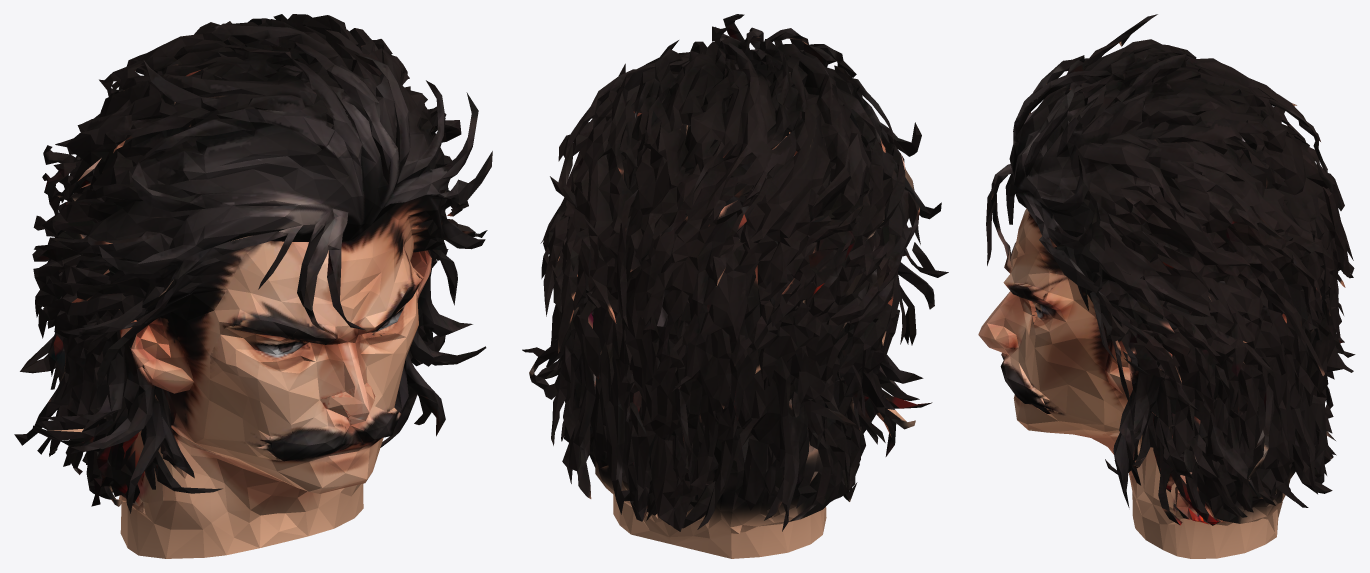
The model's file is side_yakamo_repaired_atlas.glb.
3 views of the same model, side by side, from view 1: azimuth 30°, elevation 25°; view 2: azimuth 150°, elevation 25°; view 3: azimuth 270°, elevation 25° (orthographic). The views are drawn at different scales.
Parts seen in each view (by area): view 1: temp_mesh.ply; view 2: temp_mesh.ply; view 3: temp_mesh.ply.
Part boxes in pixels (x1,y1,x2,y2): temp_mesh.ply: [14, 14, 492, 558]; temp_mesh.ply: [522, 14, 948, 558]; temp_mesh.ply: [978, 14, 1355, 558].
Bounding box in the file's own units: 1.72 × 1.97 × 1.5.
1 material, 1 textured.
